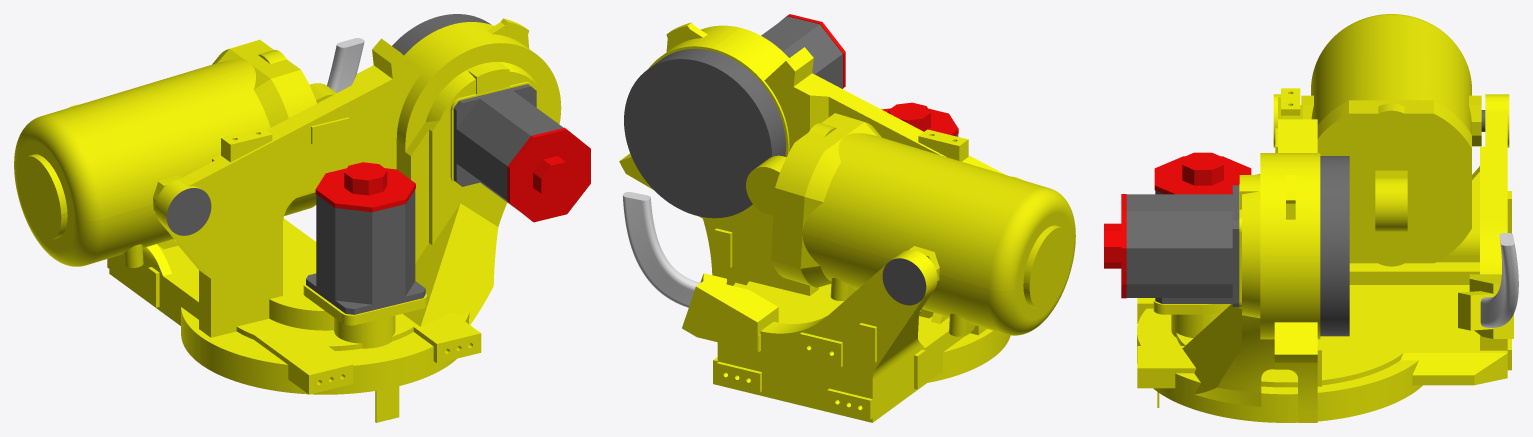
The picture shows the model from 3 angles, left to right: view 1: azimuth 30°, elevation 25°; view 2: azimuth 150°, elevation 25°; view 3: azimuth 270°, elevation 25°; orthographic projection. The views are drawn at different scales.
Parts seen in each view (by area): view 1: Mesh_0; view 2: Mesh_0; view 3: Mesh_0.
Boxes of the visible parts, left/top/right/bottom form: Mesh_0: left=14, top=14, right=590, bottom=422; Mesh_0: left=619, top=14, right=1075, bottom=422; Mesh_0: left=1104, top=14, right=1518, bottom=422.
Bounding box in the file's own units: 1.03 × 0.746 × 0.6336.
